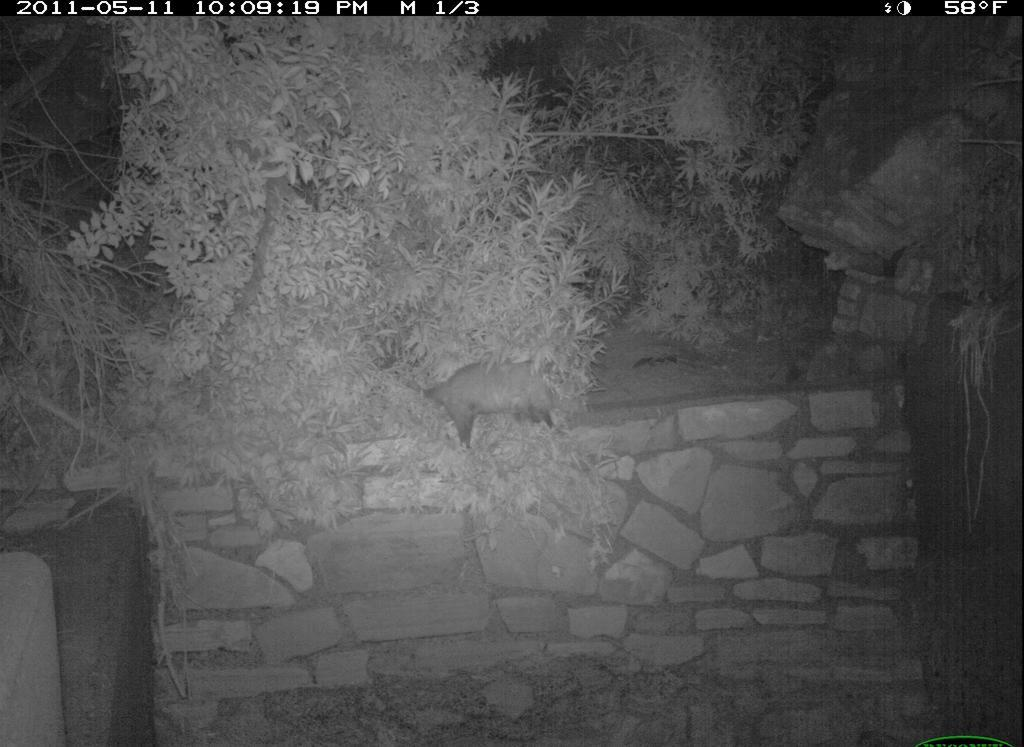opossum: (405, 347, 611, 456)
